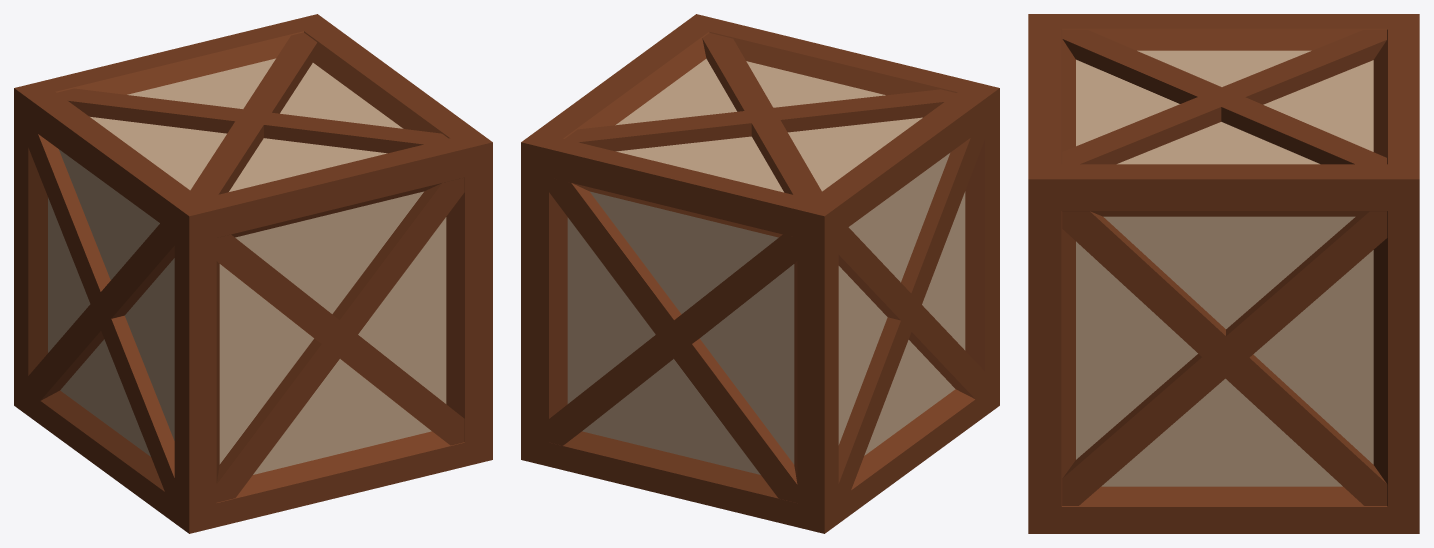
Rendered from Kiste-fixed.fbx.
3 renders of one model, left to right at view 1: azimuth 30°, elevation 25°; view 2: azimuth 150°, elevation 25°; view 3: azimuth 270°, elevation 25°, orthographic. The views are drawn at different scales.
Parts seen in each view (by area): view 1: Cube; view 2: Cube; view 3: Cube.
Boxes of the visible parts, left/top/right/bottom form: Cube: left=14, top=14, right=492, bottom=533; Cube: left=521, top=14, right=999, bottom=533; Cube: left=1028, top=14, right=1419, bottom=533.
Size of the model in its own units: 193 by 193 by 193.
